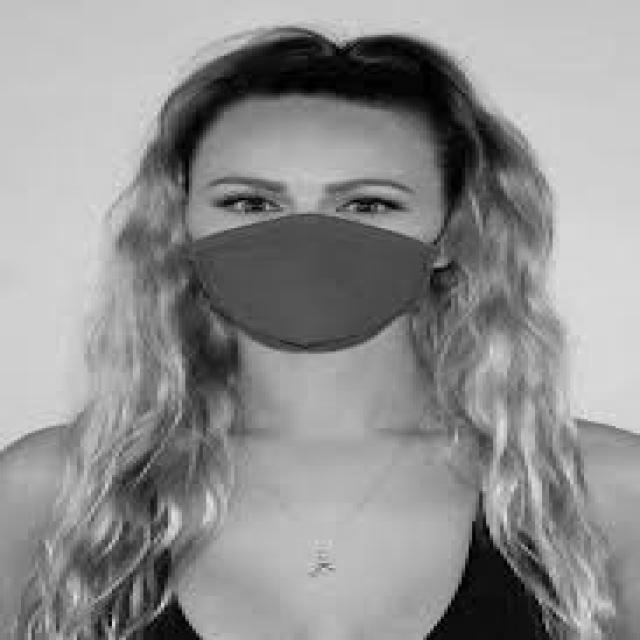fake: (181, 209, 438, 353)
real: (187, 99, 439, 361)
